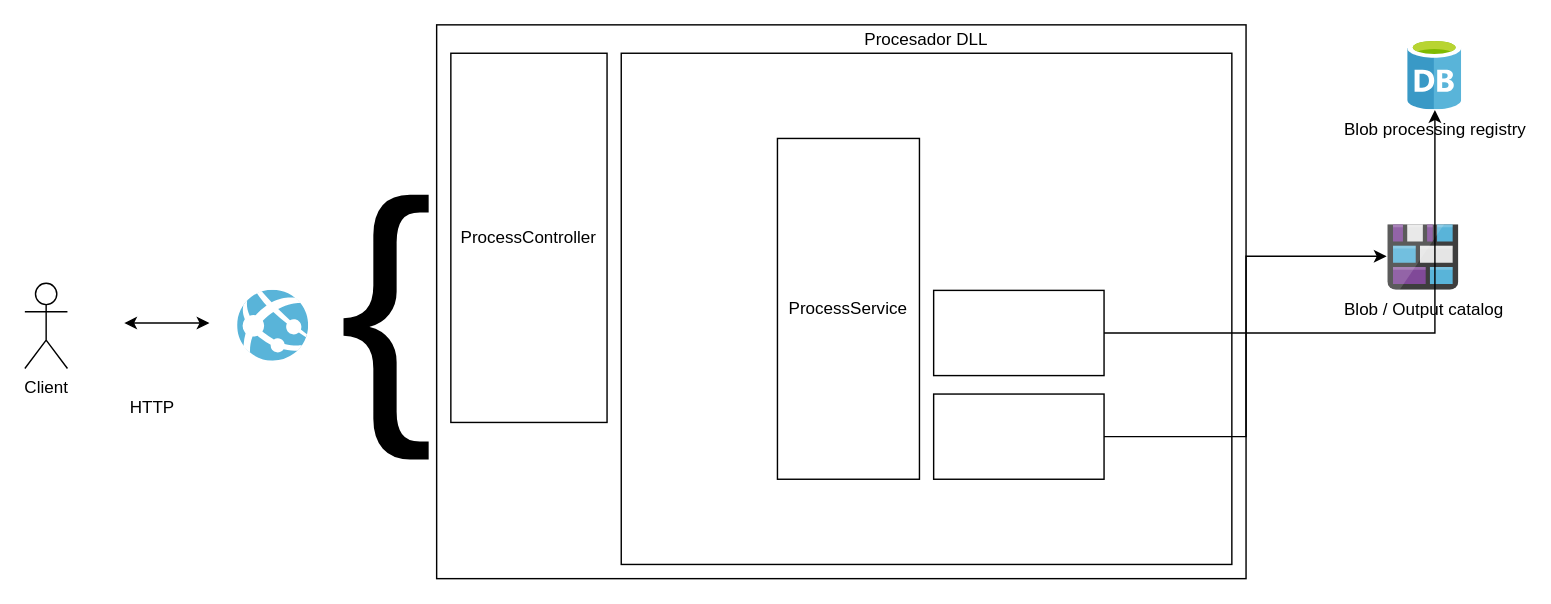
Some shapes in this 1551 by 604 pixel diagram are drawn without their labels. The box of each missing label's shape, as (x1, y1, x2, y2) in pixels:
BlobRepository: (932, 289, 1104, 376)
BlobService: (932, 393, 1104, 479)
Processador: (237, 290, 308, 361)
